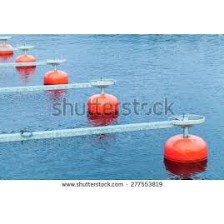buoy: (165, 133, 207, 171), (87, 94, 119, 120), (43, 71, 68, 87), (17, 55, 35, 71), (1, 43, 13, 56)
